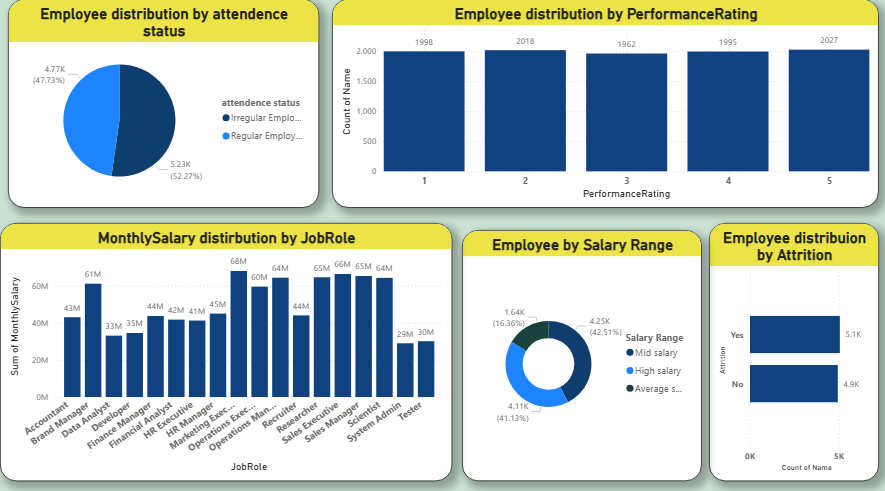

What the dashboard file says about the page in this screenshot:
{"tool":"powerbi","page":{"name":"Page 4","canvas":[1280,720],"ordinal":1},"visuals":[{"type":"pieChart","title":"Employee distribution by attendence status","fields":{"Category":["Employee_Data.attendence status"],"Y":["CountNonNull(Employee_Data.Name)"]},"box":[28.3,11.3,440.8,296.2],"z":0},{"type":"clusteredColumnChart","title":"Employee distribution by  PerformanceRating","fields":{"Category":["Employee_Data.PerformanceRating"],"Y":["CountNonNull(Employee_Data.Name)"]},"box":[487.6,11.3,775.3,296.2],"z":1000},{"type":"barChart","title":"Employee distribuion by Attrition","fields":{"Category":["Employee_Data.Attrition"],"Y":["CountNonNull(Employee_Data.Name)"]},"box":[1021.9,328.8,240.9,365.7],"z":2000},{"type":"donutChart","title":"Employee by Salary Range","fields":{"Category":["Employee_Data.Salary Range"],"Y":["CountNonNull(Employee_Data.Name)"]},"box":[671.8,338.7,340.2,355.7],"z":3000},{"type":"columnChart","title":" MonthlySalary distirbution by JobRole","fields":{"Category":["Employee_Data.JobRole"],"Y":["Sum(Employee_Data.MonthlySalary)"]},"box":[17,328.8,640.6,365.7],"z":4000}]}

Visuals, with their boxes in screenshot pixels (x1, y1, x2, y2), scaled from the page's 1280x720 canvas onto the 885x491 screenshot:
"Employee distribution by attendence status" pieChart: [left=20, top=8, right=324, bottom=210]
"Employee distribution by  PerformanceRating" clusteredColumnChart: [left=337, top=8, right=873, bottom=210]
"Employee distribuion by Attrition" barChart: [left=707, top=224, right=873, bottom=474]
"Employee by Salary Range" donutChart: [left=464, top=231, right=700, bottom=474]
" MonthlySalary distirbution by JobRole" columnChart: [left=12, top=224, right=455, bottom=474]
